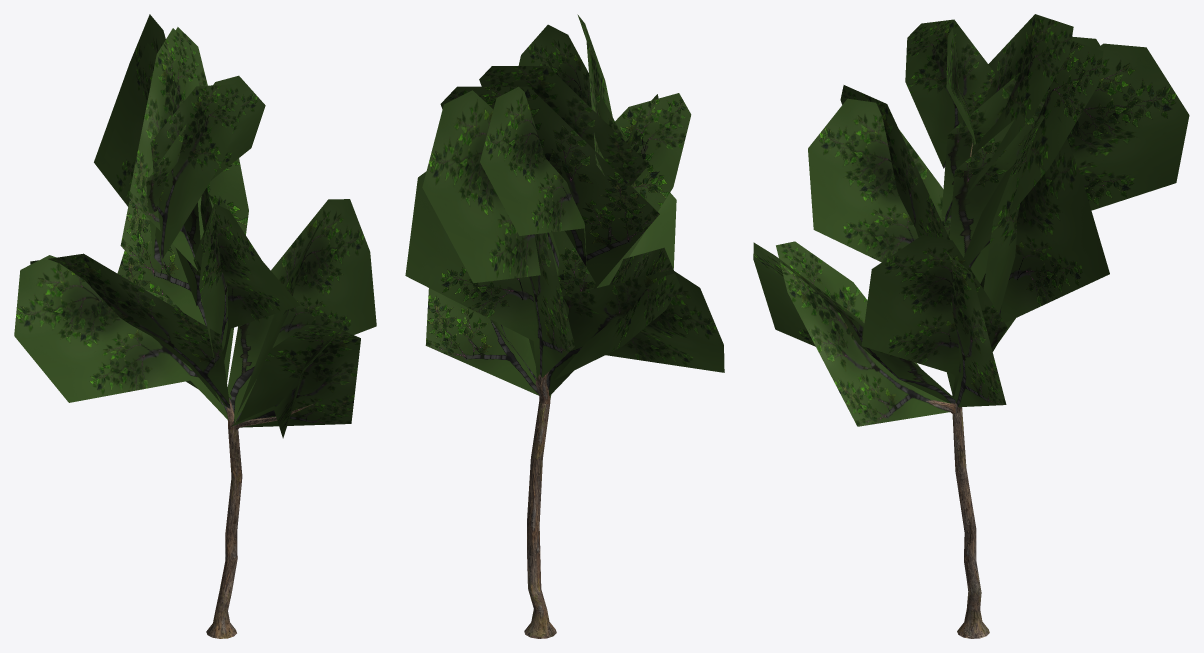
Rendered from tree_5.fbx.
The picture shows the model from 3 angles, left to right: view 1: azimuth 30°, elevation 25°; view 2: azimuth 150°, elevation 25°; view 3: azimuth 270°, elevation 25°; orthographic projection. The views are drawn at different scales.
Visible parts, largest first — view 1: Tree_5; view 2: Tree_5; view 3: Tree_5.
Part boxes in pixels (bbox=[...]): Tree_5: bbox=[14, 14, 376, 638]; Tree_5: bbox=[405, 14, 724, 638]; Tree_5: bbox=[753, 14, 1189, 638].
Bounding box in the file's own units: 4.37 × 8.09 × 5.28.
